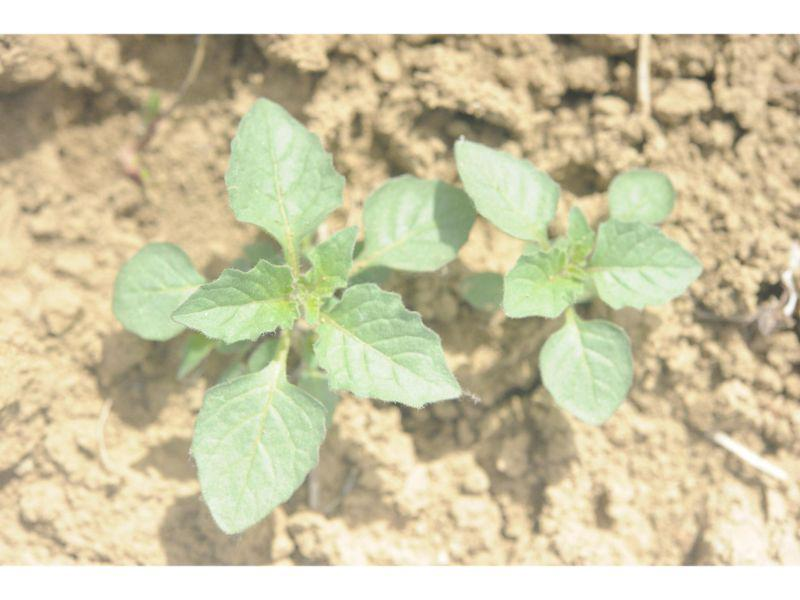nightshade: (114, 96, 477, 537), (457, 138, 701, 428)
